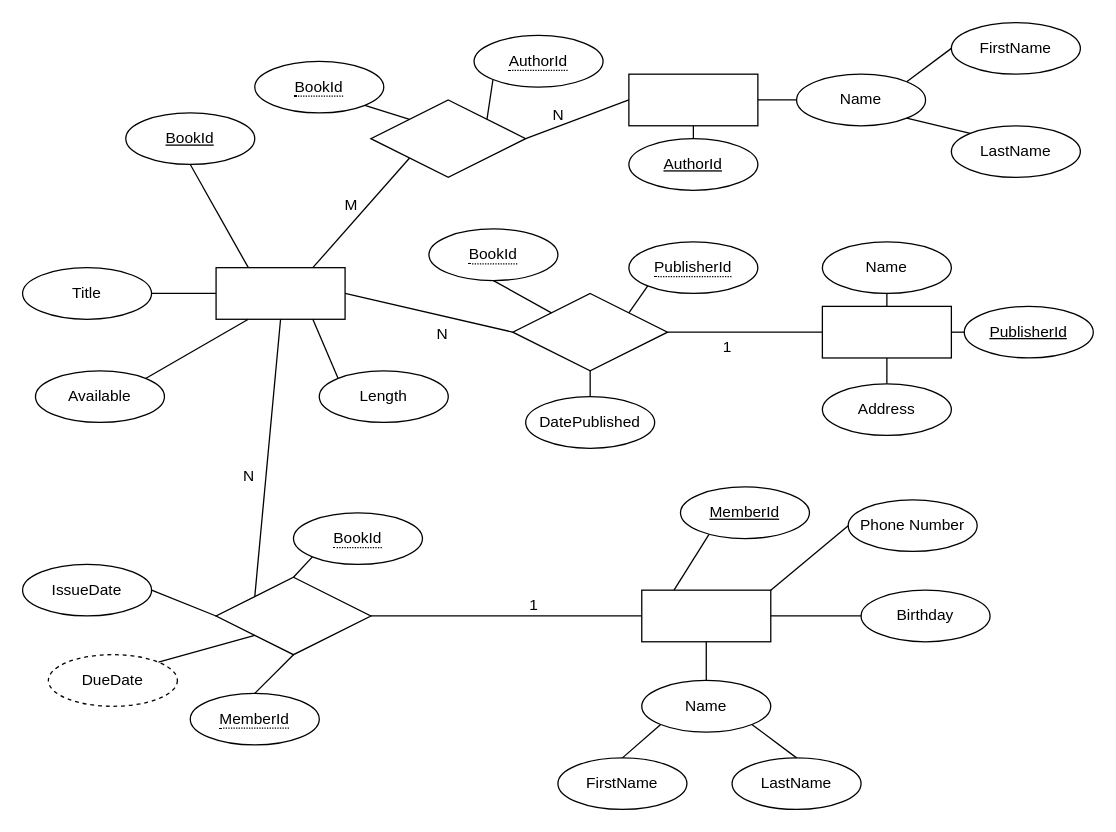
Some shapes in this 1116 by 832 pixel diagram are drawn without their labels. Here are the shapes that lost their labels. From the top down, the box of each, then its label:
(628, 73, 758, 126): Author
(370, 99, 526, 177): WrittenBy
(215, 266, 345, 319): Book
(511, 292, 668, 371): PublishedBy
(821, 305, 951, 358): Publisher
(215, 576, 371, 655): BorrowedBy
(640, 589, 771, 642): Member
